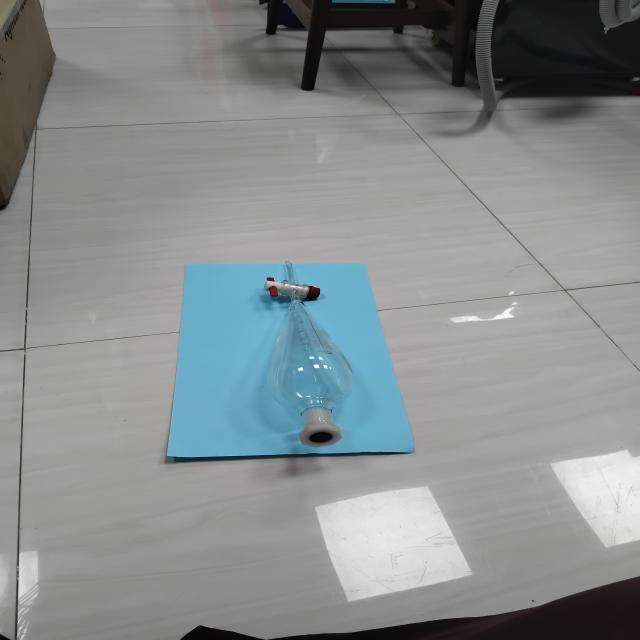Separating_Funnel: (242, 233, 380, 470)
